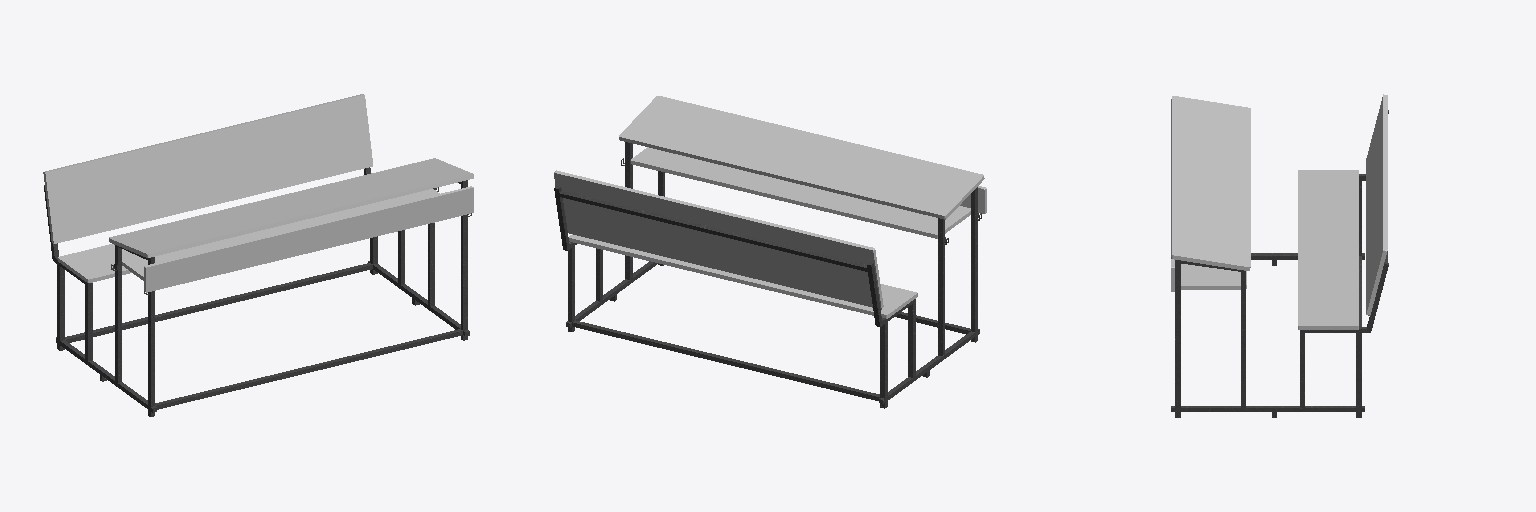
3 views of the same model, side by side, from view 1: azimuth 30°, elevation 25°; view 2: azimuth 150°, elevation 25°; view 3: azimuth 270°, elevation 25° (orthographic).
Parts seen in each view (by area): view 1: Cube; view 2: Cube; view 3: Cube.
Part boxes in pixels (left/top/right/bottom): Cube: left=43, top=94, right=473, bottom=416; Cube: left=554, top=96, right=986, bottom=408; Cube: left=1171, top=94, right=1388, bottom=417.
Size of the model in its own units: 3.52 by 1.73 by 2.02.
2 materials, 1 textured.